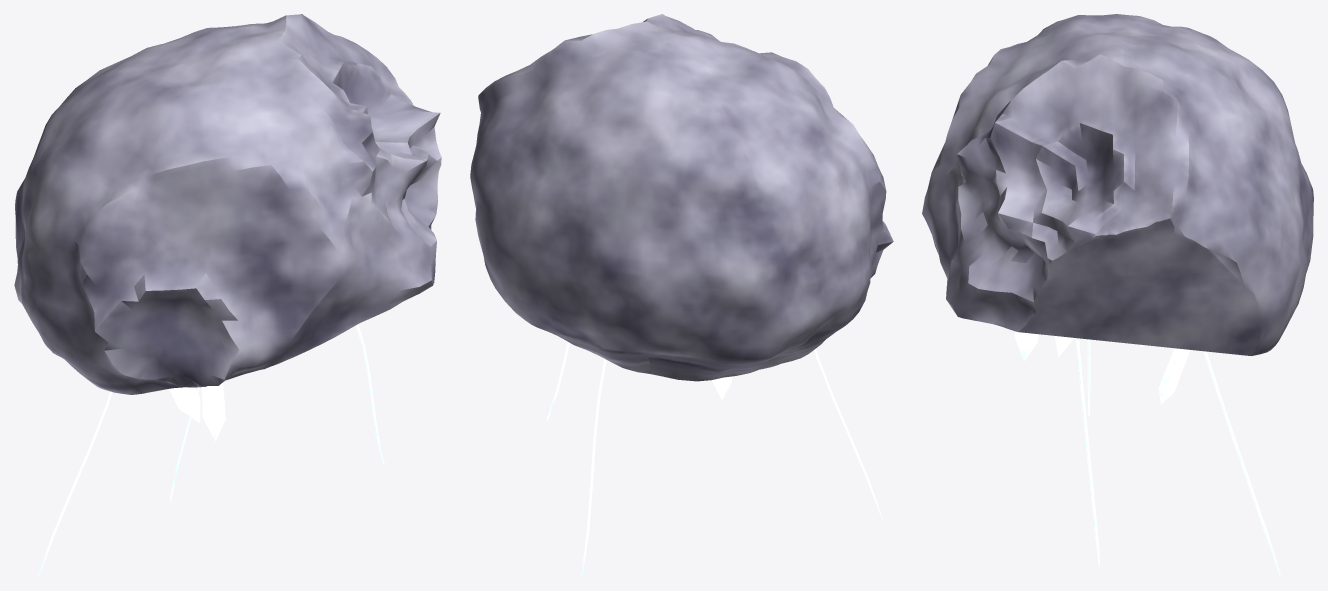
The model's file is Promenade_MoonChunk.fbx.
3 renders of one model, left to right at view 1: azimuth 30°, elevation 25°; view 2: azimuth 150°, elevation 25°; view 3: azimuth 270°, elevation 25°, orthographic. The views are drawn at different scales.
Visible parts, largest first — view 1: Promenade_MoonChunk; view 2: Promenade_MoonChunk; view 3: Promenade_MoonChunk.
Part boxes in pixels (bbox=[...]): Promenade_MoonChunk: bbox=[14, 14, 441, 576]; Promenade_MoonChunk: bbox=[470, 14, 893, 576]; Promenade_MoonChunk: bbox=[922, 14, 1313, 576].
Bounding box in the file's own units: 3.99 × 5.05 × 3.37.
